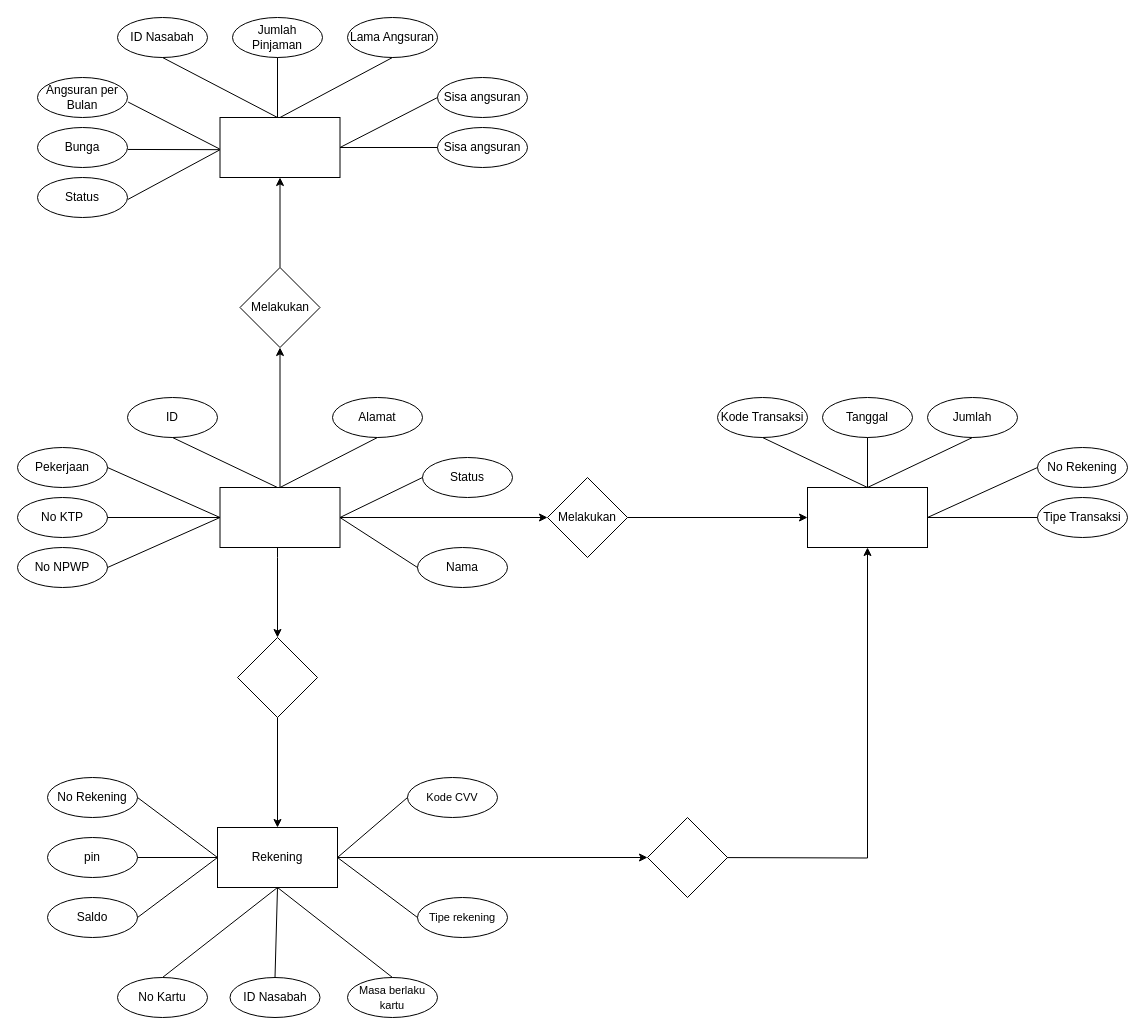
The diagram is 1145 pixels wide and 1035 high, and some of its shapes have lost their labels. The box of each missing label's shape, as (x1, y1, x2, y2) in pixels:
Melibatkan: (646, 816, 728, 898)
Memiliki: (236, 636, 318, 718)
Nasabah: (219, 486, 340, 548)
Peminjaman: (219, 116, 340, 178)
Transaksi: (806, 486, 928, 548)
